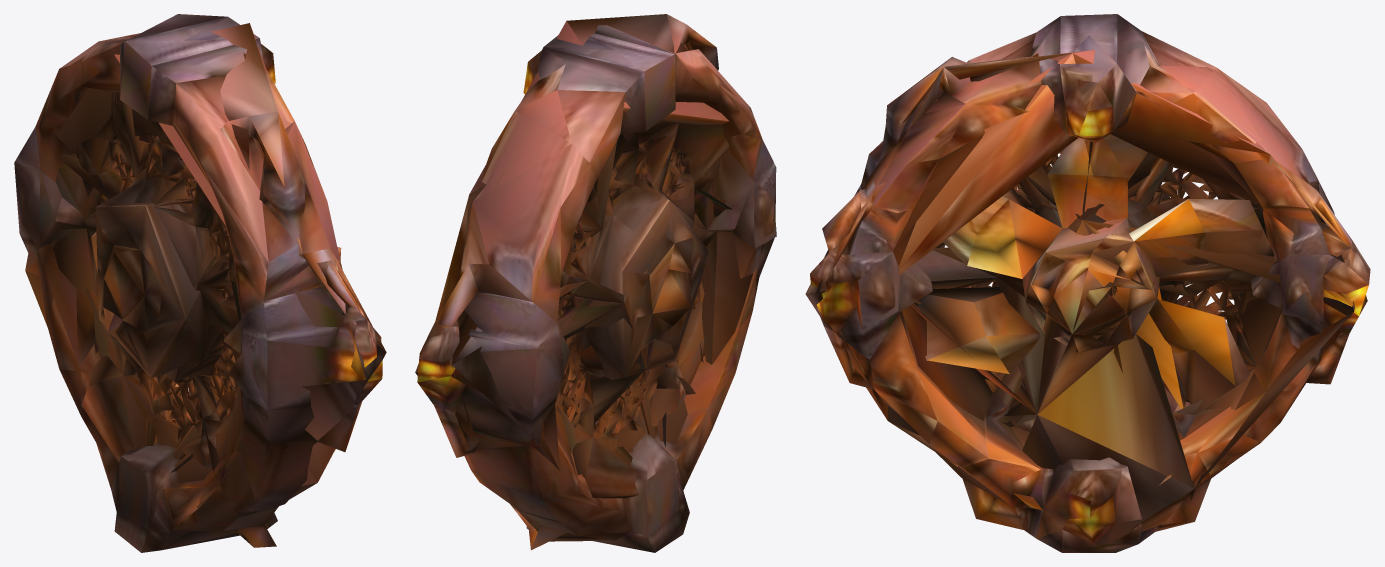
The model's file is turbina.glb.
3 renders of one model, left to right at view 1: azimuth 30°, elevation 25°; view 2: azimuth 150°, elevation 25°; view 3: azimuth 270°, elevation 25°, orthographic.
Visible parts, largest first — view 1: turbina, turbina-lod; view 2: turbina, turbina-lod; view 3: turbina, turbina-lod.
Part boxes in pixels (left/top/right/bottom): turbina: left=14, top=14, right=382, bottom=552; turbina-lod: left=25, top=23, right=386, bottom=531; turbina: left=417, top=14, right=776, bottom=552; turbina-lod: left=415, top=14, right=764, bottom=531; turbina: left=810, top=14, right=1370, bottom=552; turbina-lod: left=805, top=50, right=1354, bottom=543.
Size of the model in its own units: 0.3376 by 1.02 by 1.06.
Materials: 1 (1 with a texture image).
